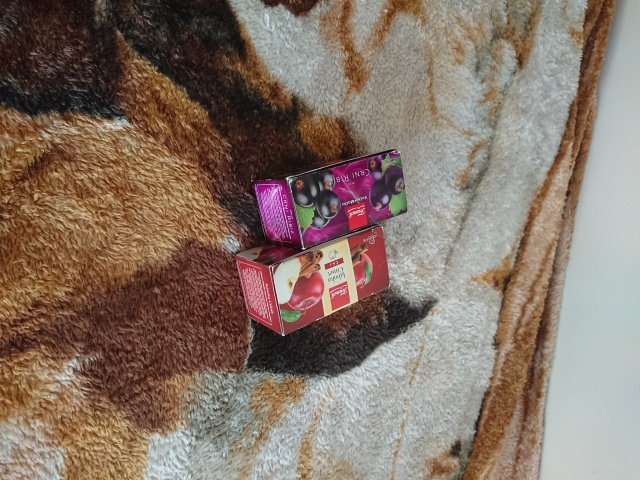Franck Apple Cinnamon Tea 60g: (232, 219, 393, 339)
Franck Black Currant Tea 60g: (248, 145, 411, 252)
